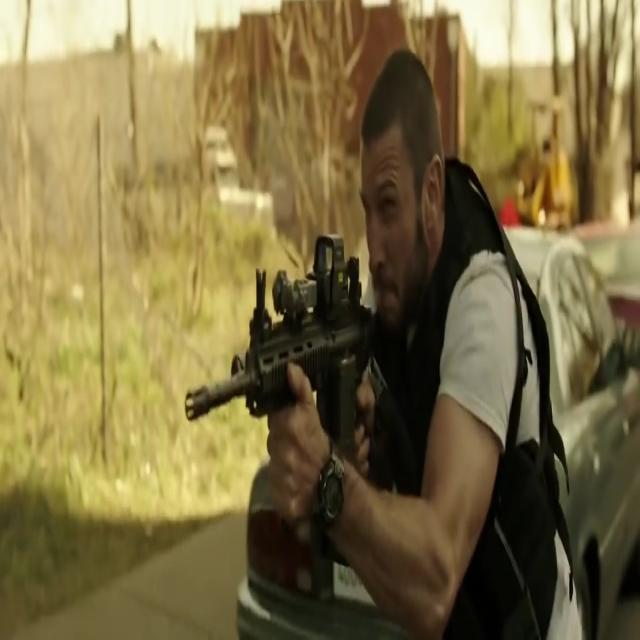Weapon: (172, 278, 390, 483)
